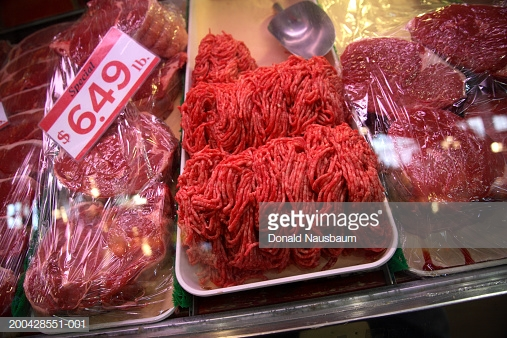ground_beef: (28, 23, 159, 322), (185, 36, 363, 237)
